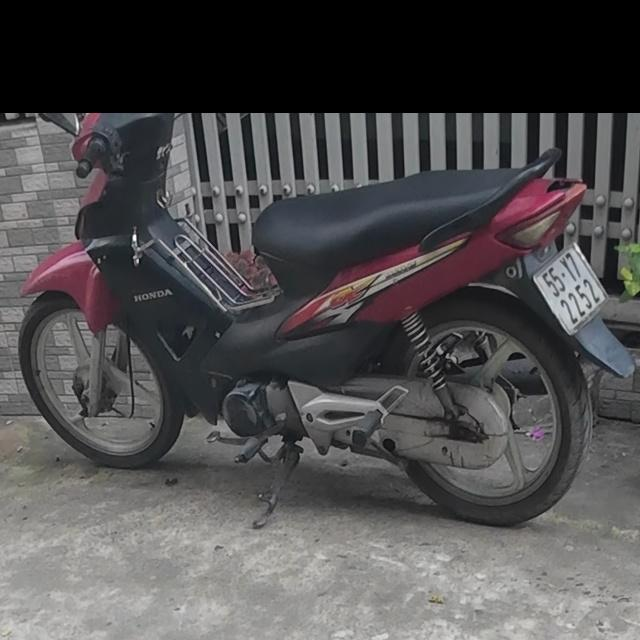license-plate: (531, 244, 606, 332)
